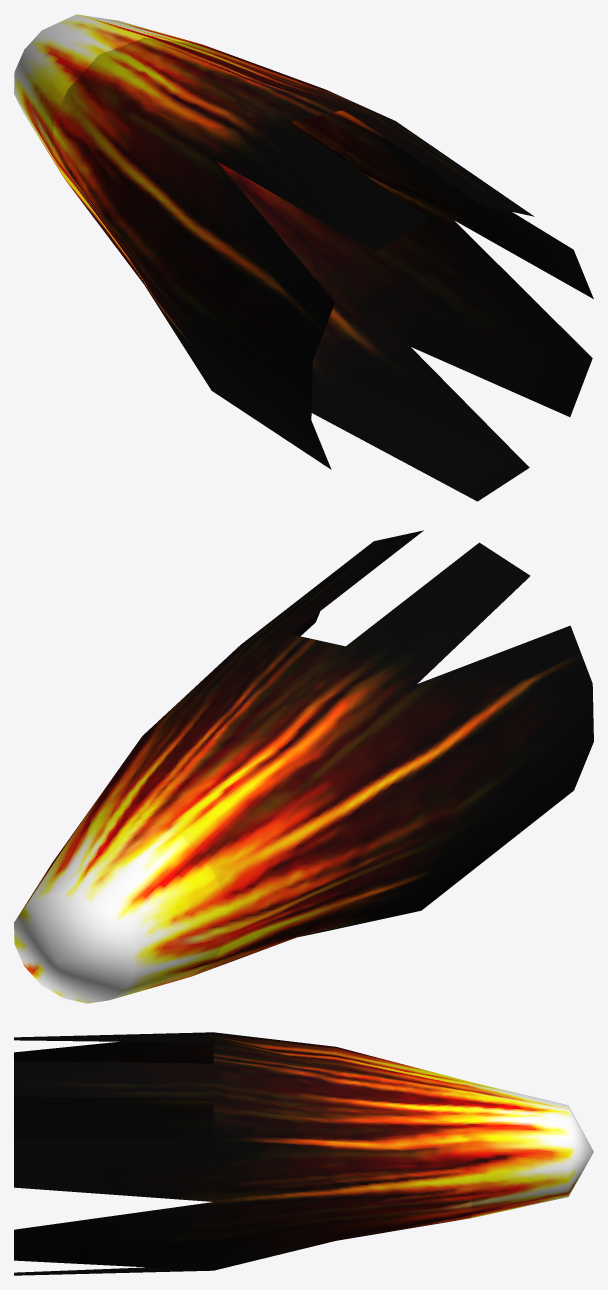
Rendered from fx_fbx_skill_101_fist_attack_3.FBX.
The picture shows the model from 3 angles, top to bottom: view 1: azimuth 30°, elevation 25°; view 2: azimuth 150°, elevation 25°; view 3: azimuth 270°, elevation 25°; orthographic projection. The views are drawn at different scales.
Visible parts, largest first — view 1: Sphere001; view 2: Sphere001; view 3: Sphere001.
Part boxes in pixels (left/top/right/bottom): Sphere001: left=14, top=14, right=593, bottom=501; Sphere001: left=14, top=530, right=593, bottom=1003; Sphere001: left=14, top=1032, right=593, bottom=1275.
Bounding box in the file's own units: 254 × 619 × 256.
1 material, 1 textured.
